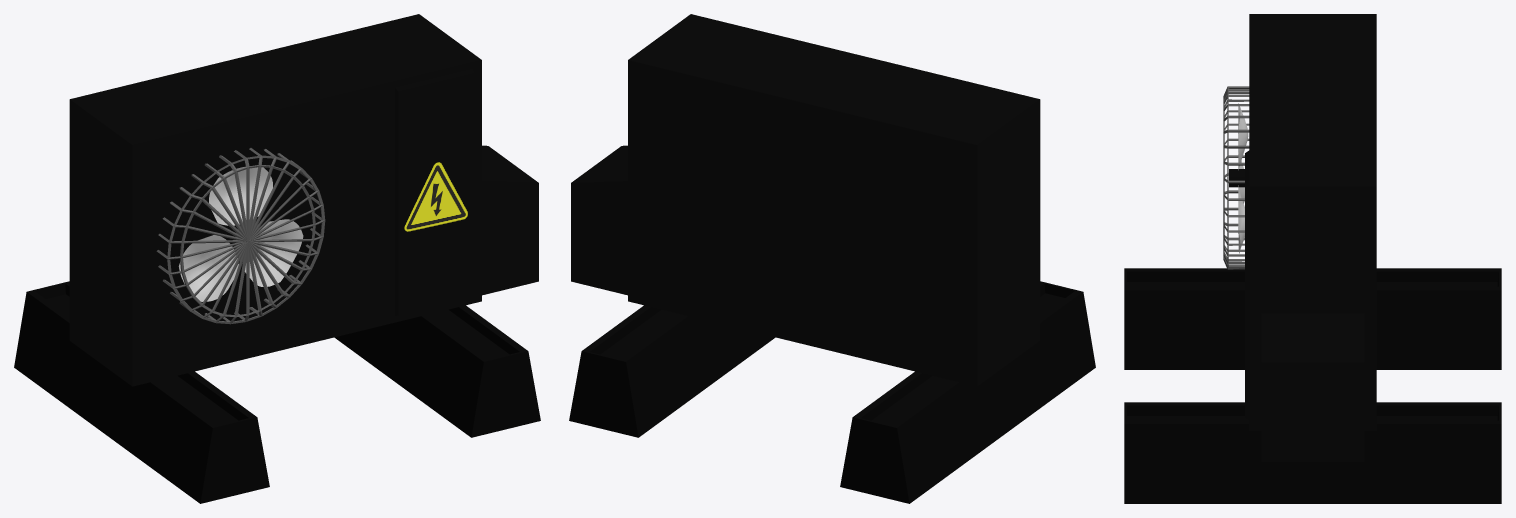
Rendered from HP_Electric.glb.
3 views of the same model, side by side, from view 1: azimuth 30°, elevation 25°; view 2: azimuth 150°, elevation 25°; view 3: azimuth 270°, elevation 25° (orthographic).
Parts seen in each view (by area): view 1: Cube; view 2: Cube; view 3: Cube.
Boxes of the visible parts, x1,y1,x2,y2 form: Cube: (14,14,540,503); Cube: (569,14,1095,503); Cube: (1124,14,1501,503).
Size of the model in its own units: 3.58 by 2.61 by 2.8.
4 materials, 1 textured.
